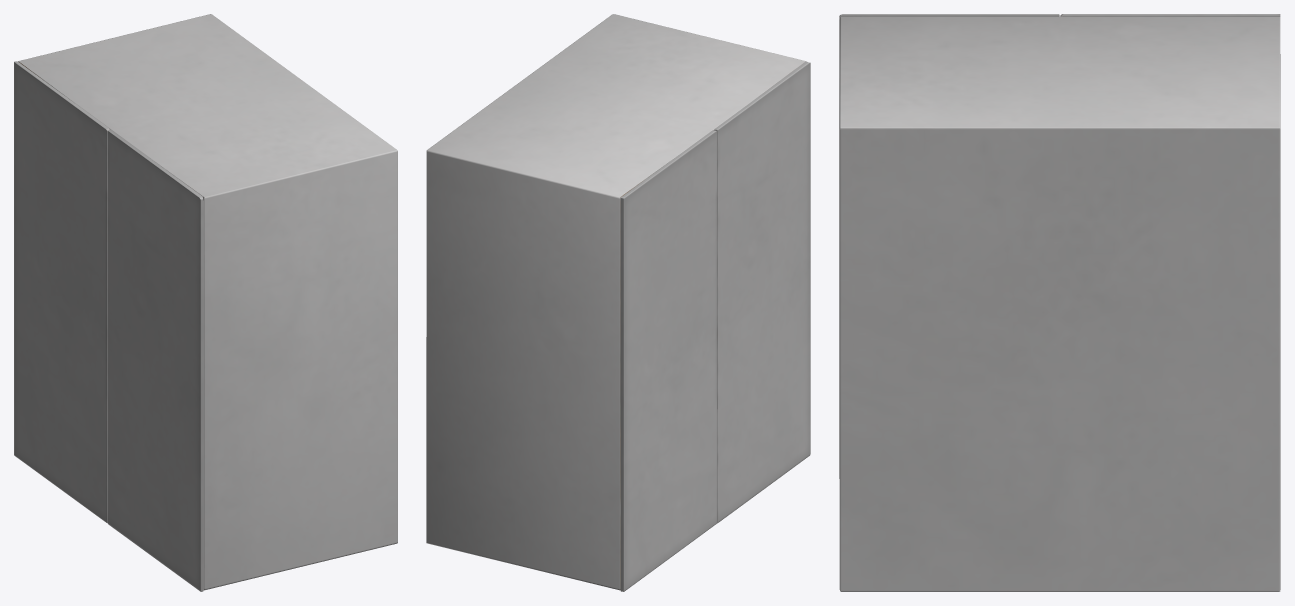
File: SM_Kitchen05.fbx
3 views of the same model, side by side, from view 1: azimuth 30°, elevation 25°; view 2: azimuth 150°, elevation 25°; view 3: azimuth 270°, elevation 25° (orthographic). The views are drawn at different scales.
Parts seen in each view (by area): view 1: SM_Kitchen05_LOD0; view 2: SM_Kitchen05_LOD0; view 3: SM_Kitchen05_LOD0.
Part boxes in pixels (bbox=[...]): SM_Kitchen05_LOD0: bbox=[14, 14, 397, 591]; SM_Kitchen05_LOD0: bbox=[426, 14, 810, 591]; SM_Kitchen05_LOD0: bbox=[839, 14, 1280, 591].
Bounding box in the file's own units: 36.64 × 59.99 × 69.83.
